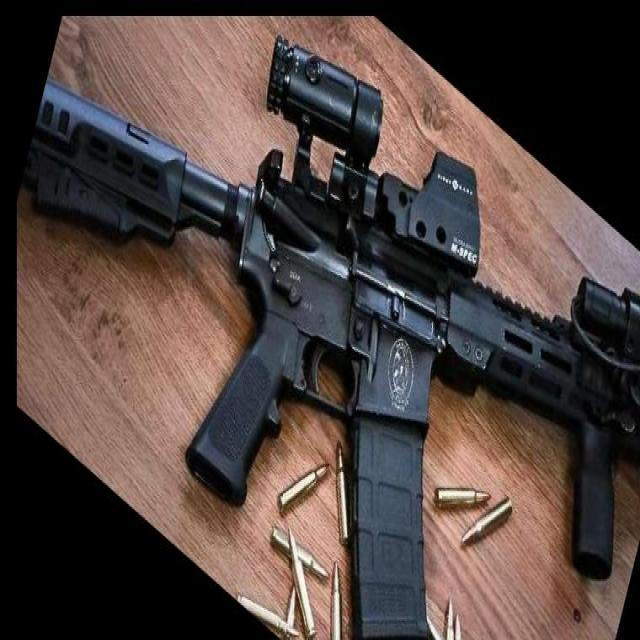weapon: (22, 32, 640, 640)
